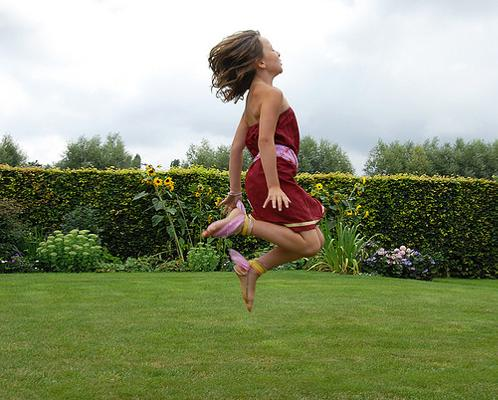person: (202, 30, 324, 313)
